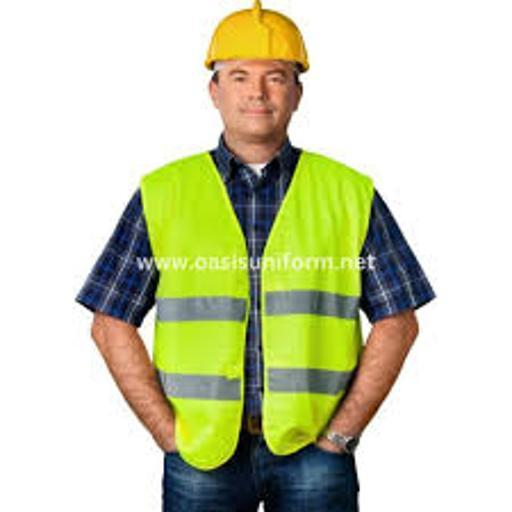Hard_hat: (200, 1, 319, 75)
Humans: (75, 48, 433, 512)
Vest: (132, 136, 377, 467)
